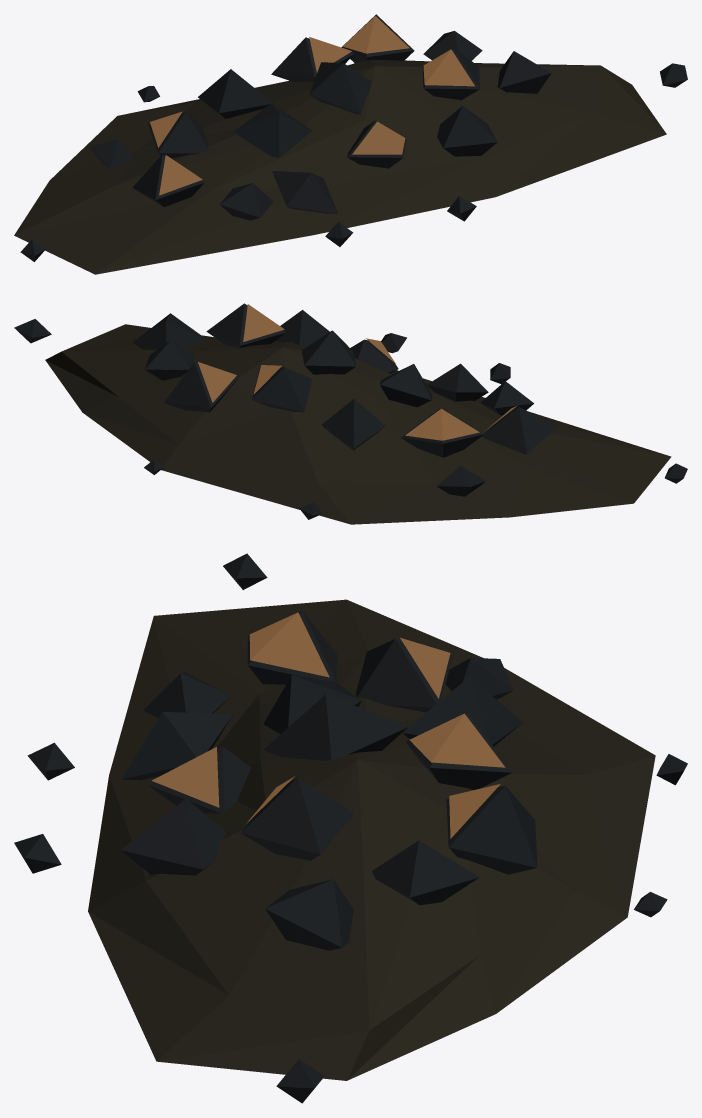
The model's file is env-nodule-bed.glb.
3 renders of one model, top to bottom at view 1: azimuth 30°, elevation 25°; view 2: azimuth 150°, elevation 25°; view 3: azimuth 270°, elevation 25°, orthographic. The views are drawn at different scales.
Parts seen in each view (by area): view 1: mound, nodule_02, nodule_08, nodule_10, nodule_09, nodule_12, nodule_07, nodule_11, nodule_05, nodule_06_glint, nodule_14, nodule_03 (+12 smaller); view 2: mound, nodule_05, nodule_03, nodule_09, nodule_08, nodule_06, nodule_02, nodule_11, nodule_12, nodule_01, nodule_13, nodule_07_glint (+10 smaller); view 3: mound, nodule_08, nodule_01, nodule_06, nodule_10, nodule_11, nodule_12, nodule_07, nodule_13, nodule_09, nodule_05_glint, nodule_03_glint (+13 smaller).
Part boxes in pixels (bbox=[...]): mound: bbox=[14, 60, 666, 274]; nodule_02: bbox=[233, 103, 312, 157]; nodule_08: bbox=[309, 62, 371, 114]; nodule_10: bbox=[437, 106, 497, 156]; nodule_09: bbox=[198, 69, 273, 118]; nodule_12: bbox=[272, 171, 338, 213]; nodule_07: bbox=[148, 112, 208, 158]; nodule_11: bbox=[497, 51, 551, 93]; nodule_05: bbox=[132, 154, 204, 207]; nodule_06_glint: bbox=[343, 16, 409, 53]; nodule_14: bbox=[220, 183, 273, 220]; nodule_03: bbox=[271, 37, 354, 81]; mound: bbox=[45, 324, 671, 524]; nodule_05: bbox=[482, 407, 557, 454]; nodule_03: bbox=[252, 366, 312, 412]; nodule_09: bbox=[321, 398, 385, 450]; nodule_08: bbox=[302, 330, 356, 374]; nodule_06: bbox=[164, 362, 238, 412]; nodule_02: bbox=[379, 364, 432, 407]; nodule_11: bbox=[133, 313, 205, 349]; nodule_12: bbox=[427, 363, 488, 401]; nodule_01: bbox=[206, 303, 286, 347]; nodule_13: bbox=[145, 340, 193, 380]; nodule_07_glint: bbox=[405, 408, 479, 440]; mound: bbox=[88, 599, 655, 1080]; nodule_08: bbox=[263, 694, 407, 760]; nodule_01: bbox=[241, 777, 354, 860]; nodule_06: bbox=[446, 785, 537, 874]; nodule_10: bbox=[120, 799, 226, 875]; nodule_11: bbox=[265, 879, 353, 950]; nodule_12: bbox=[121, 711, 232, 780]; nodule_07: bbox=[355, 639, 452, 712]; nodule_13: bbox=[372, 840, 479, 905]; nodule_09: bbox=[402, 677, 522, 746]; nodule_05_glint: bbox=[249, 612, 329, 677]; nodule_03_glint: bbox=[409, 713, 505, 767].
Size of the model in its own units: 12 by 1.65 by 6.42.
